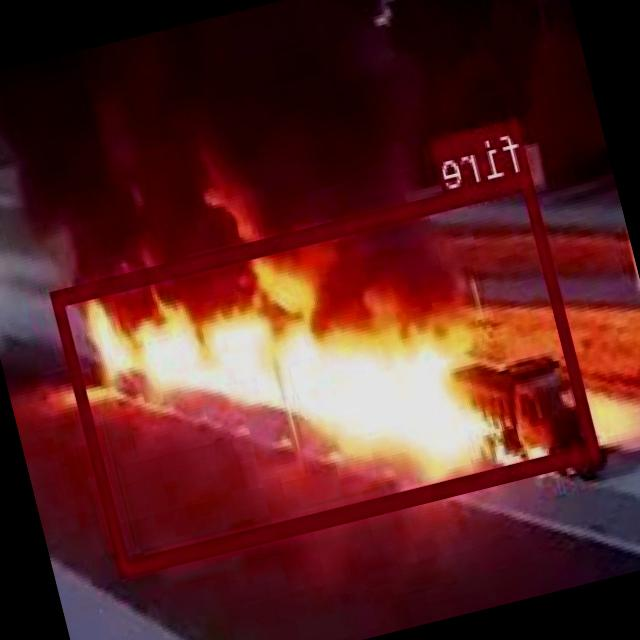fire: (52, 170, 600, 573)
